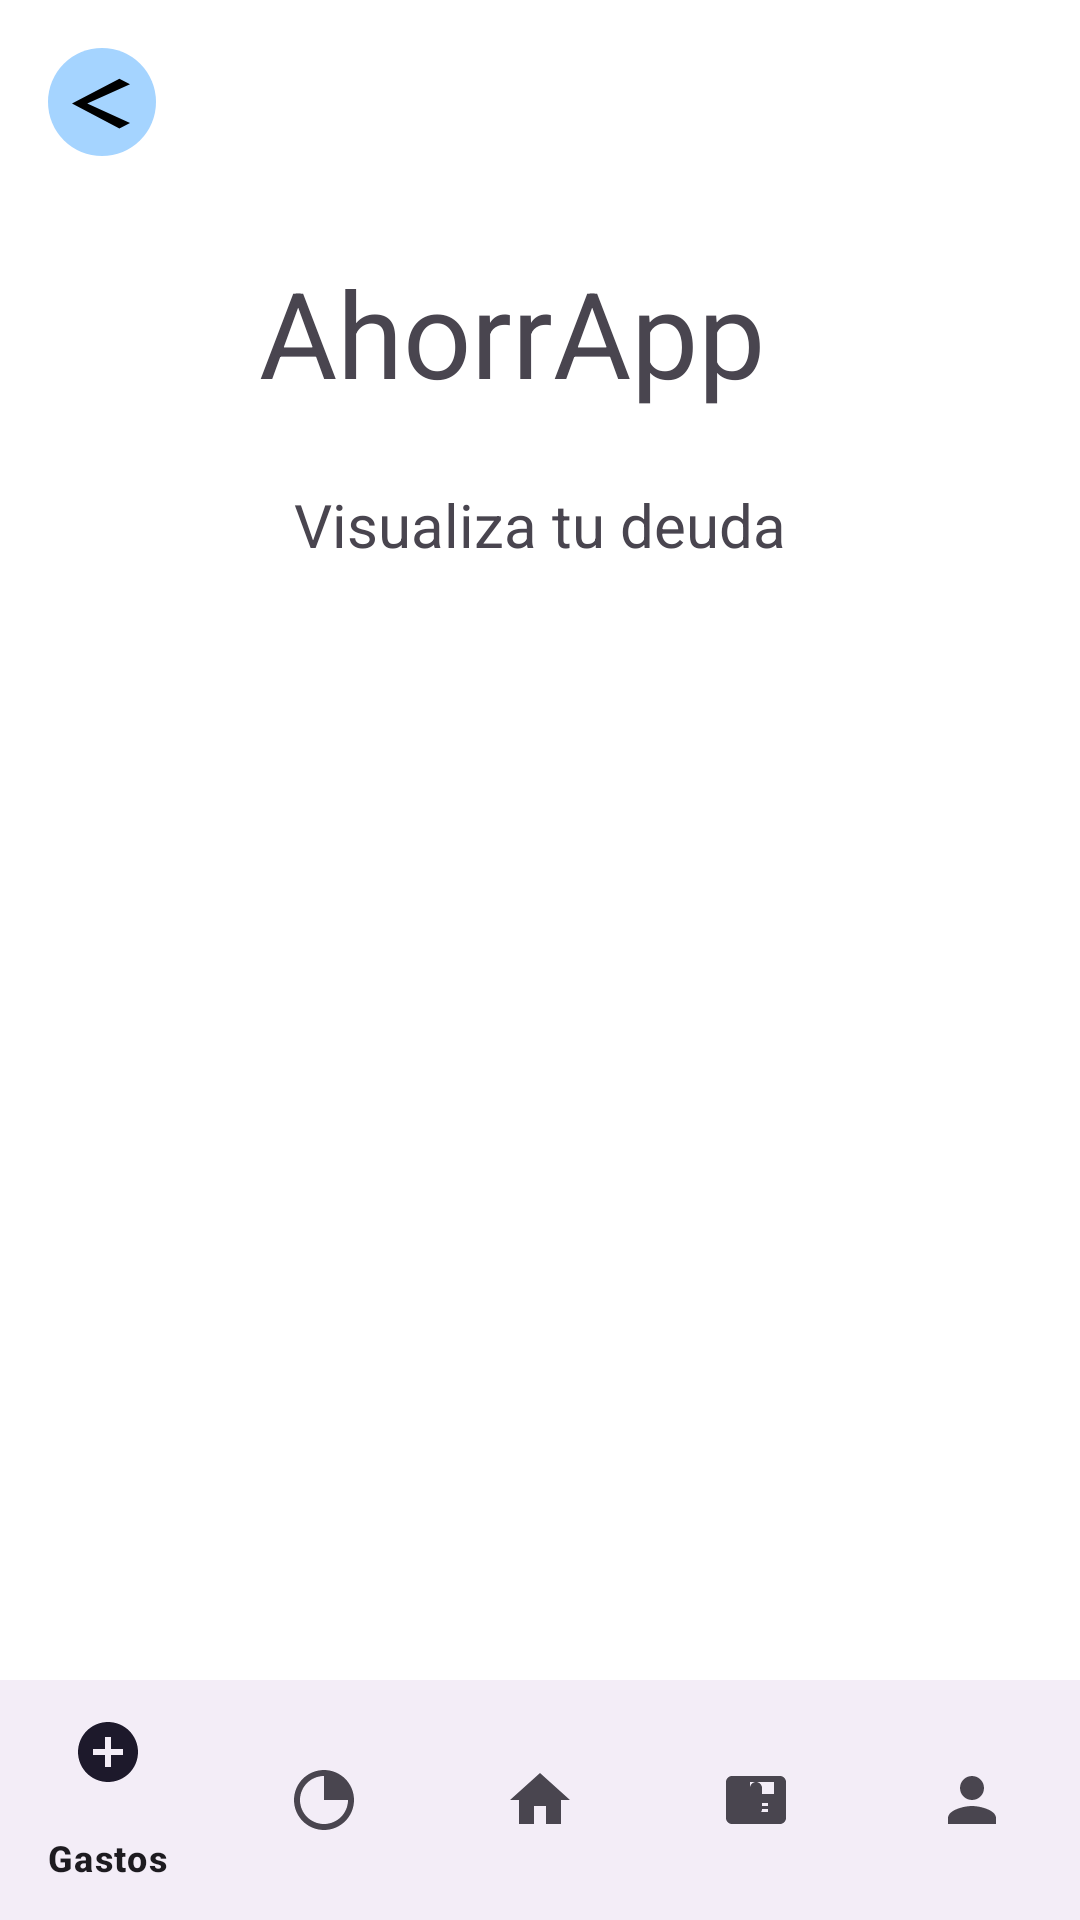

Icons on this 1080x1920 Android screen, each with its box as (x1, y1, x2, y2):
arrow back: (48, 48, 156, 156)
